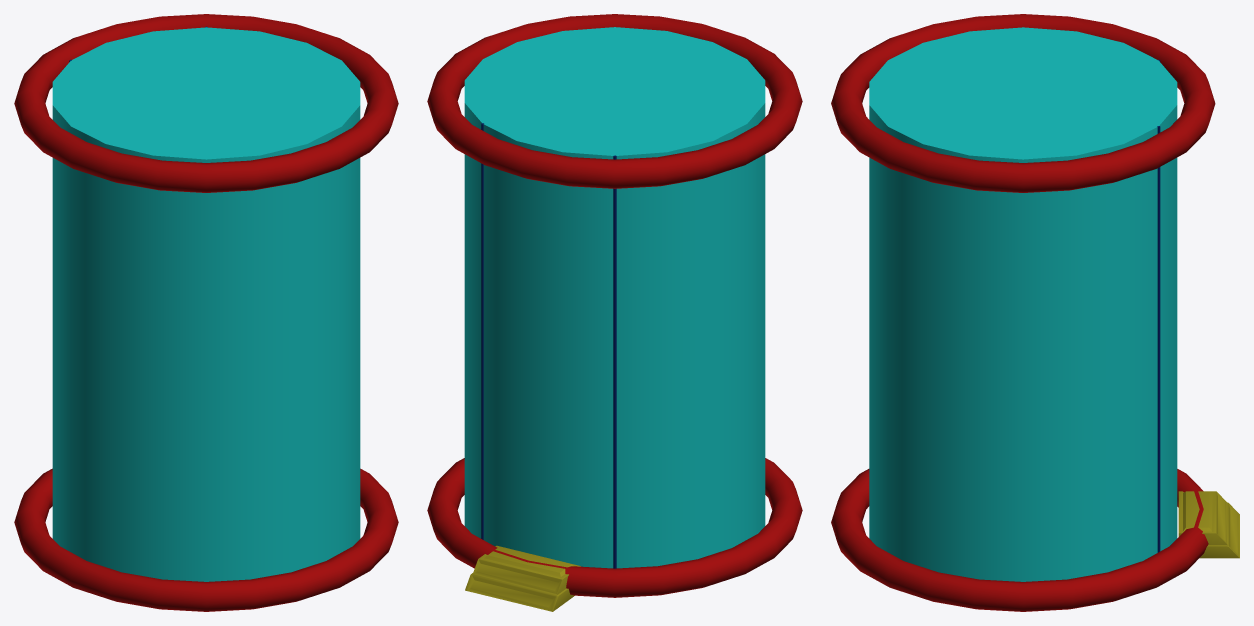
Rendered from Ascensceur scifi.FBX.
3 views of the same model, side by side, from view 1: azimuth 30°, elevation 25°; view 2: azimuth 150°, elevation 25°; view 3: azimuth 270°, elevation 25° (orthographic). The views are drawn at different scales.
Visible parts, largest first — view 1: Ascensceur scifi; view 2: Ascensceur scifi; view 3: Ascensceur scifi.
Part boxes in pixels (box(x1,y1,x2,y2)): Ascensceur scifi: box(14, 14, 398, 611); Ascensceur scifi: box(427, 14, 802, 611); Ascensceur scifi: box(831, 14, 1239, 611).
Size of the model in its own units: 3527 by 4519 by 3752.
